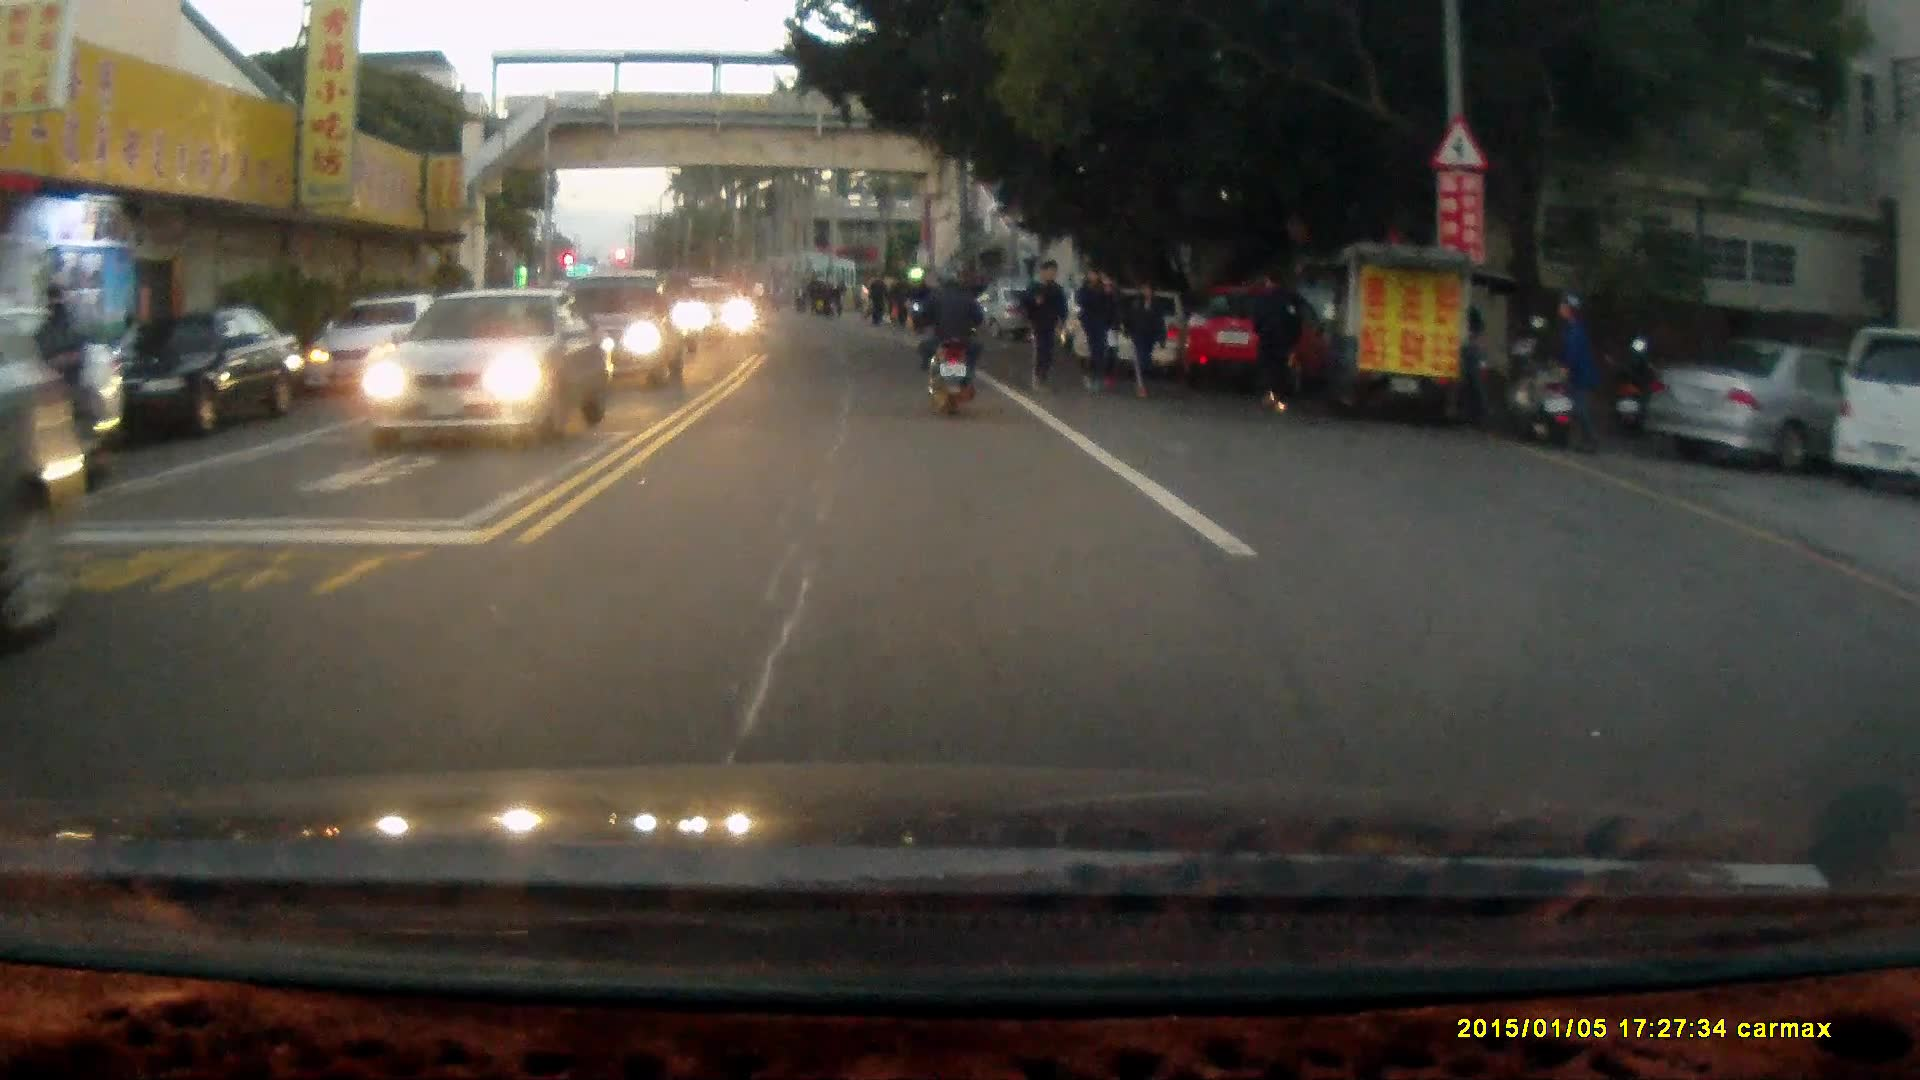pedestrian: (1245, 266, 1305, 417), (1546, 279, 1601, 443), (1017, 258, 1069, 397), (1125, 277, 1170, 403), (1075, 263, 1113, 396)
rider: (910, 261, 989, 421)
vehicle: (365, 286, 609, 441), (1651, 333, 1920, 472), (1179, 283, 1333, 391), (562, 267, 688, 388), (677, 281, 754, 342)
